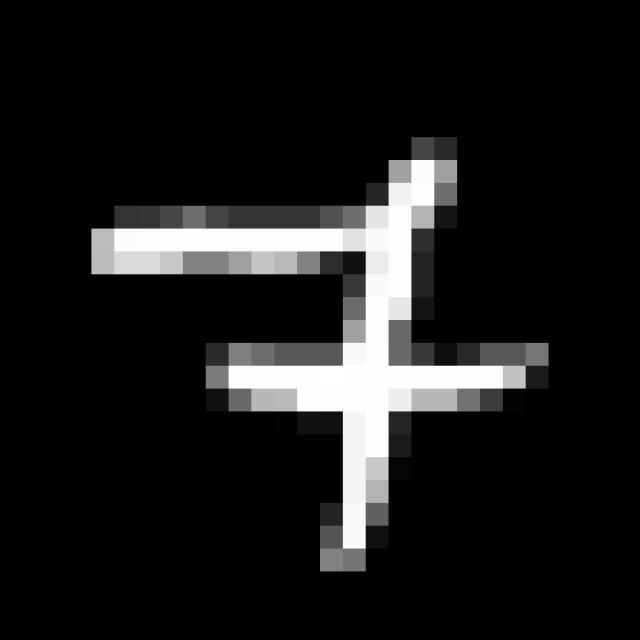seven -7-: (80, 146, 558, 586)
